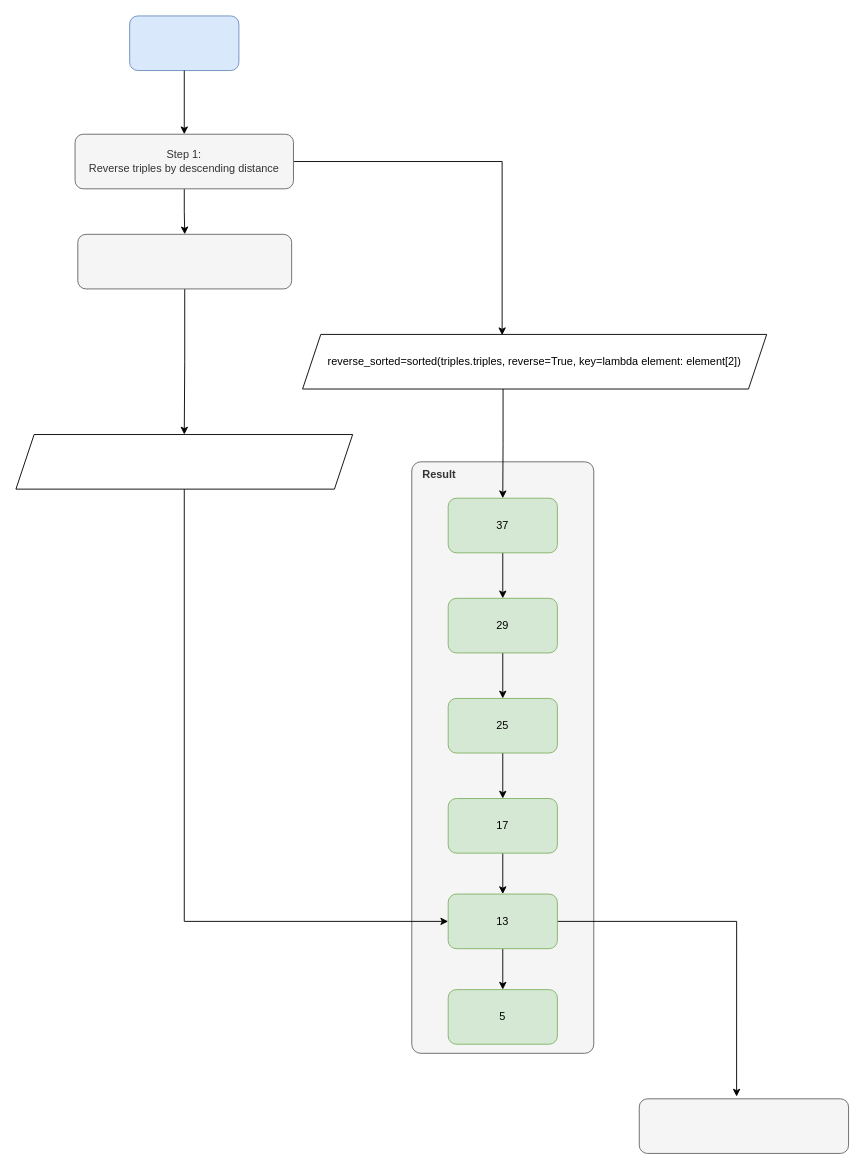
This 865x1169 diagram has some shape labels left out. Each missing label, with the centre of its shape:
result = list(filter(lambda i: i[2] <= distance, reverse_sorted))[0]: (x=184, y=461)
Step 2: Find first distance in ordered list smaller than or equal to the input: (x=184, y=261)
Step 3: Return triple: (5, 12, 13): (x=743, y=1125)
User Input: 14: (x=184, y=43)
